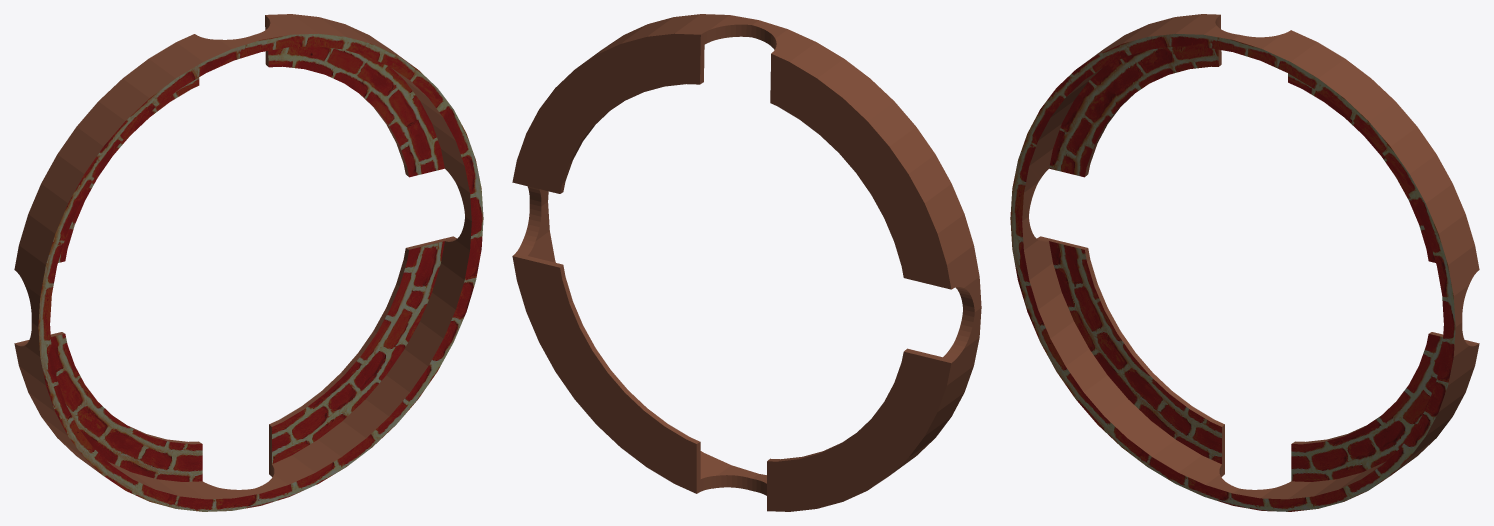
The model's file is pool_000.obj.
3 views of the same model, side by side, from view 1: azimuth 30°, elevation 25°; view 2: azimuth 150°, elevation 25°; view 3: azimuth 330°, elevation 25° (orthographic).
Bounding box in the file's own units: 38 × 38 × 4.
